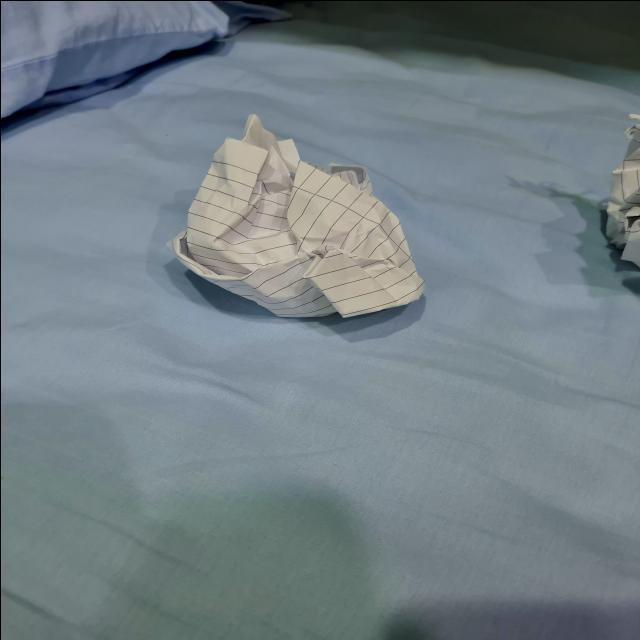Paper: (157, 104, 444, 334)
